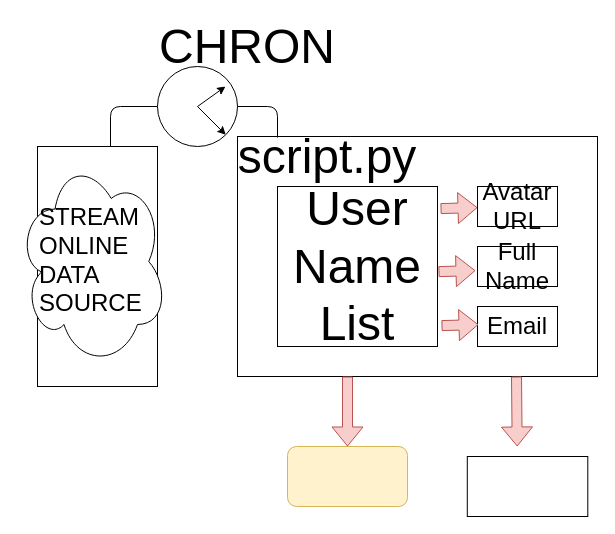
The diagram is 615 pixels wide and 534 high, and some of its shapes have lost their labels. Each missing label, with the centre of its shape:
A,B,C,D\n.CSV: point 527,486
Terminal Output: point 347,476
